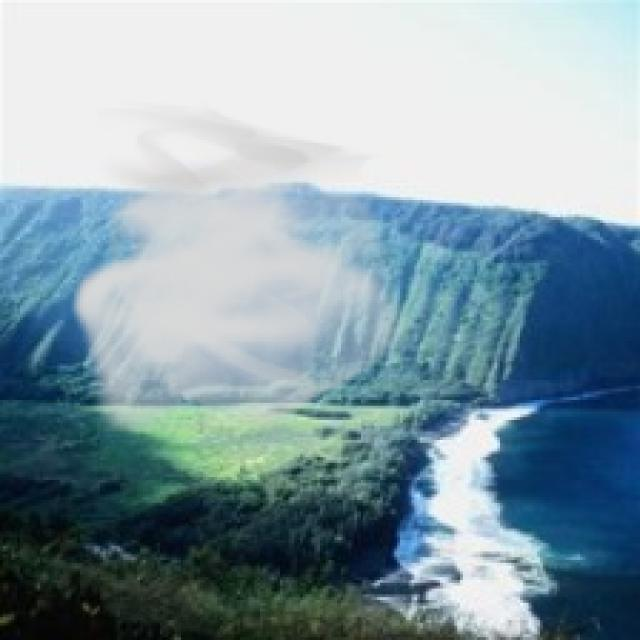smoke: (69, 100, 414, 443)
